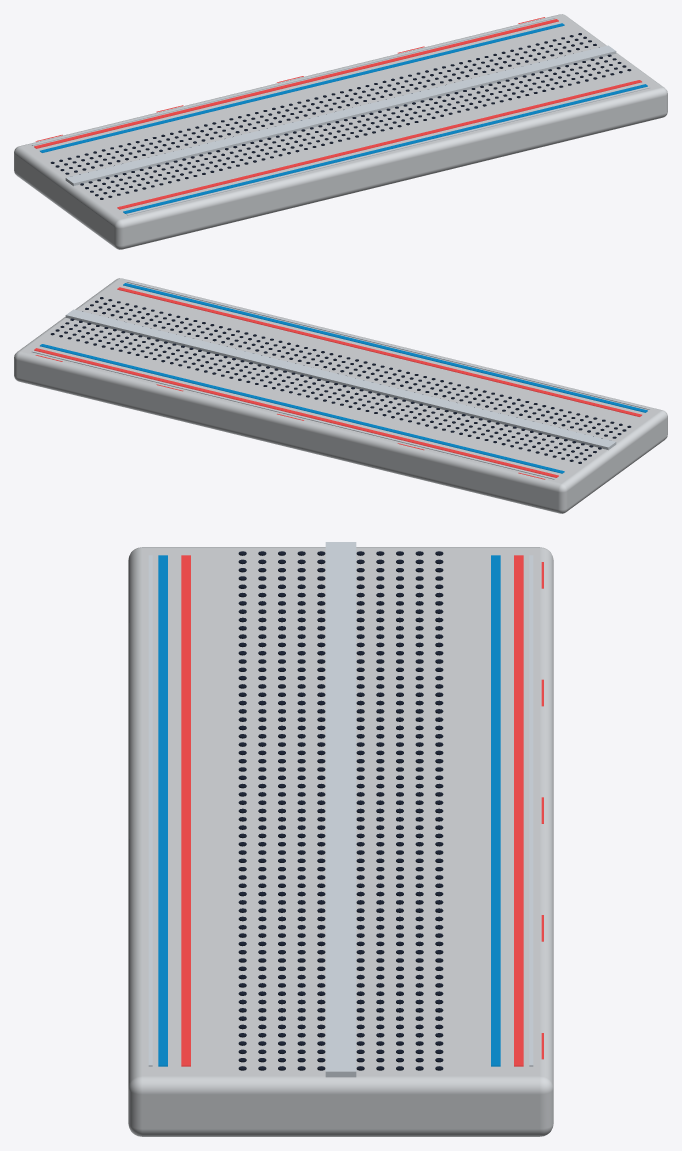
The model's file is reference.glb.
The picture shows the model from 3 angles, top to bottom: view 1: azimuth 30°, elevation 25°; view 2: azimuth 150°, elevation 25°; view 3: azimuth 270°, elevation 25°; orthographic projection. The views are drawn at different scales.
Visible parts, largest first — view 1: MB-102 body 165x55x8.5 mm, central DIP ravine, negative/positive power rail (×2), positive/negative power rail (×2), rail separator (×2); view 2: MB-102 body 165x55x8.5 mm, central DIP ravine, positive/negative power rail (×2), negative/positive power rail (×2), rail separator (×2); view 3: MB-102 body 165x55x8.5 mm, central DIP ravine, negative/positive power rail (×2), positive/negative power rail (×2), rail separator (×2).
Part boxes in pixels (box(x1,y1,x2,y2)): MB-102 body 165x55x8.5 mm: box(14, 14, 667, 249); central DIP ravine: box(65, 45, 616, 186); negative/positive power rail (×2): box(34, 19, 564, 152); positive/negative power rail (×2): box(117, 80, 647, 213); rail separator (×2): box(32, 17, 650, 215); MB-102 body 165x55x8.5 mm: box(14, 278, 667, 513); central DIP ravine: box(65, 309, 616, 450); positive/negative power rail (×2): box(117, 283, 647, 416); negative/positive power rail (×2): box(34, 344, 564, 477); rail separator (×2): box(31, 281, 649, 479); MB-102 body 165x55x8.5 mm: box(128, 547, 553, 1136); central DIP ravine: box(325, 542, 356, 1077); negative/positive power rail (×2): box(491, 555, 523, 1066); positive/negative power rail (×2): box(158, 555, 190, 1066); rail separator (×2): box(148, 555, 533, 1066).
Size of the model in its own units: 165 by 9.25 by 55.
